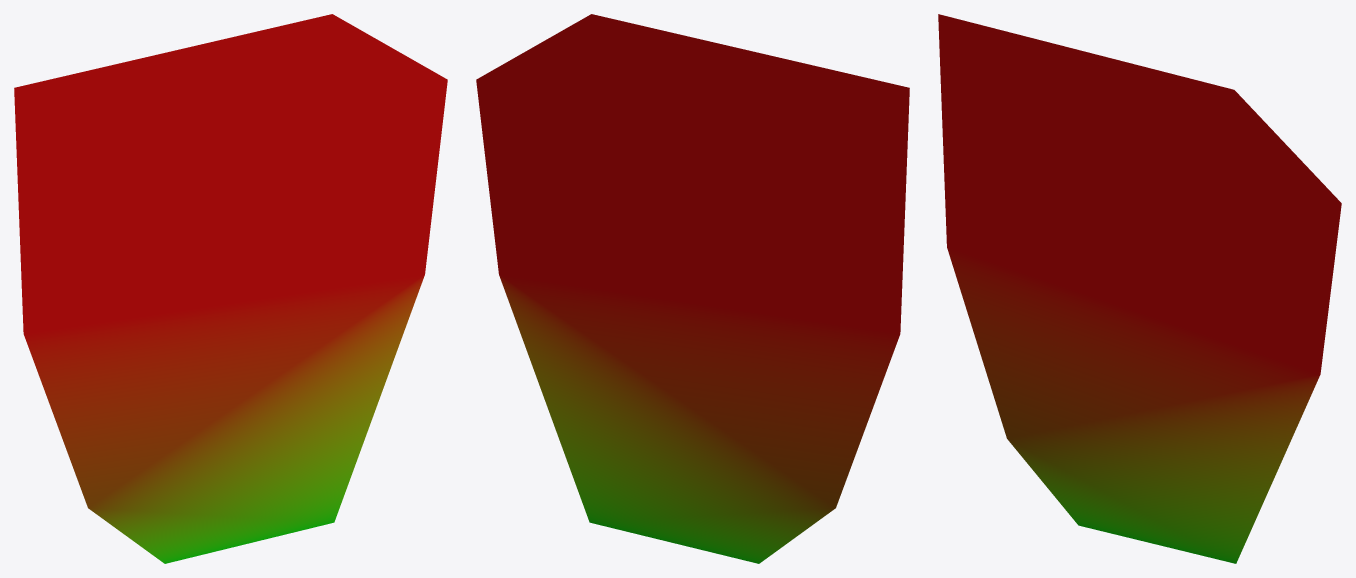
File: Var2_LOD5.fbx
The picture shows the model from 3 angles, left to right: view 1: azimuth 30°, elevation 25°; view 2: azimuth 150°, elevation 25°; view 3: azimuth 330°, elevation 25°; orthographic projection. The views are drawn at different scales.
Visible parts, largest first — view 1: _vmly_Var2_LOD5; view 2: _vmly_Var2_LOD5; view 3: _vmly_Var2_LOD5.
Boxes of the visible parts, box(x1,y1,x2,y2) form: _vmly_Var2_LOD5: box(14, 14, 447, 563); _vmly_Var2_LOD5: box(476, 14, 909, 563); _vmly_Var2_LOD5: box(938, 14, 1341, 563).
Size of the model in its own units: 48.84 by 55.19 by 6.58e-06.
